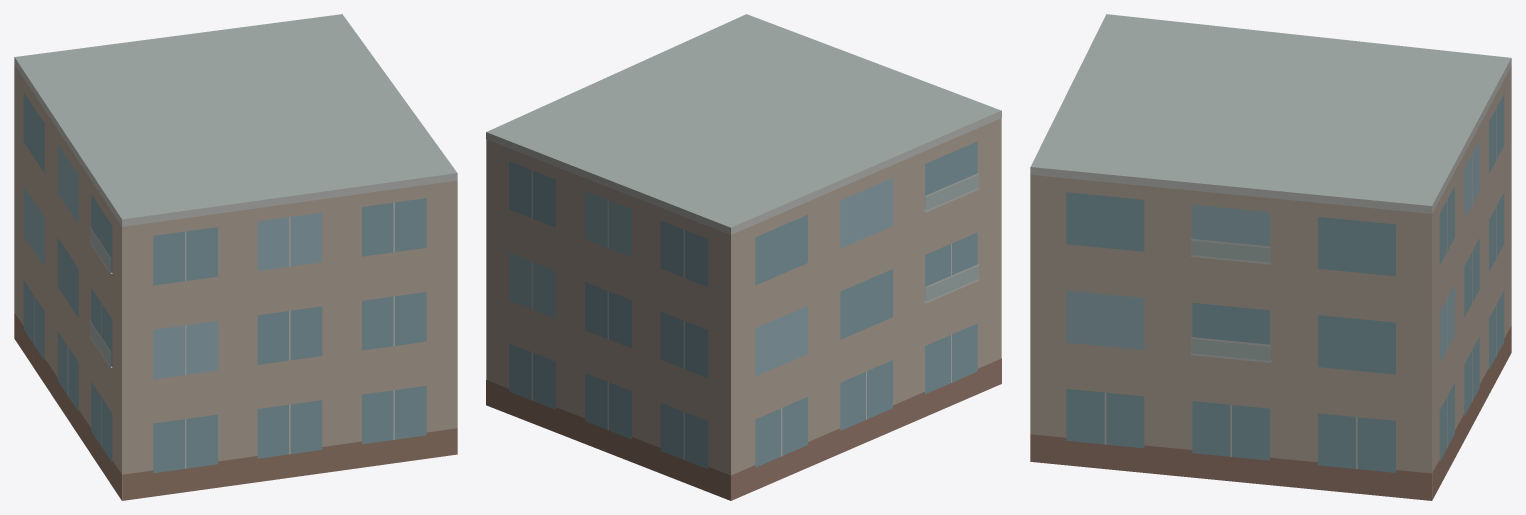
Rendered from survey-upis-32667460.glb.
The picture shows the model from 3 angles, left to right: view 1: azimuth 30°, elevation 25°; view 2: azimuth 150°, elevation 25°; view 3: azimuth 270°, elevation 25°; orthographic projection. The views are drawn at different scales.
Visible parts, largest first — view 1: survey-upis-32667460.tmp; view 2: survey-upis-32667460.tmp; view 3: survey-upis-32667460.tmp.
Boxes of the visible parts, left/top/right/bottom form: survey-upis-32667460.tmp: left=14, top=14, right=457, bottom=500; survey-upis-32667460.tmp: left=486, top=14, right=1001, bottom=500; survey-upis-32667460.tmp: left=1030, top=14, right=1511, bottom=500.
Bounding box in the file's own units: 12.8 × 9.15 × 13.54.
